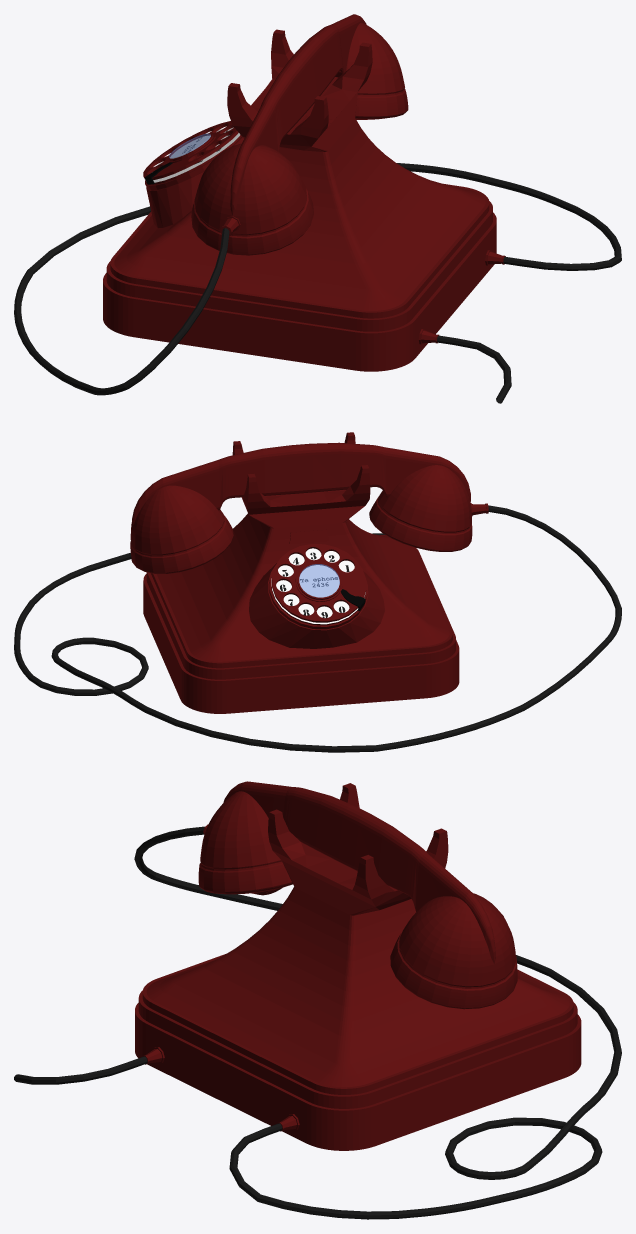
Rendered from phone.FBX.
3 renders of one model, top to bottom at view 1: azimuth 30°, elevation 25°; view 2: azimuth 150°, elevation 25°; view 3: azimuth 270°, elevation 25°, orthographic. The views are drawn at different scales.
Parts seen in each view (by area): view 1: Component0, Component2, Componen28, Componente, Agrupar#7_, Componen27, Group_009, Component1; view 2: Component1, Component2, Componen27, Componen28, Agrupar#7_, Group_009, Componente, Component0, Group_001; view 3: Componente, Component0, Componen27, Component1, Agrupar#7_, Componen28.
Boxes of the visible parts, <box> form: Component0: <box>244,96,454,371</box>; Component2: <box>103,83,284,353</box>; Componen28: <box>191,53,313,255</box>; Componente: <box>312,42,496,311</box>; Agrupar#7_: <box>14,163,621,403</box>; Componen27: <box>294,14,408,119</box>; Group_009: <box>143,121,243,190</box>; Component1: <box>258,29,293,98</box>; Component1: <box>162,474,326,713</box>; Component2: <box>303,465,459,705</box>; Componen27: <box>130,444,303,573</box>; Componen28: <box>301,442,472,551</box>; Agrupar#7_: <box>14,505,621,752</box>; Group_009: <box>269,544,367,629</box>; Componente: <box>143,441,259,657</box>; Component0: <box>344,432,436,593</box>; Group_001: <box>299,565,339,597</box>; Componente: <box>226,855,469,1150</box>; Component0: <box>135,809,347,1103</box>; Componen27: <box>346,809,517,1009</box>; Component1: <box>389,828,581,1111</box>; Agrupar#7_: <box>14,826,621,1219</box>; Componen28: <box>198,781,361,894</box>.
Size of the model in its own units: 280 by 113 by 240.
